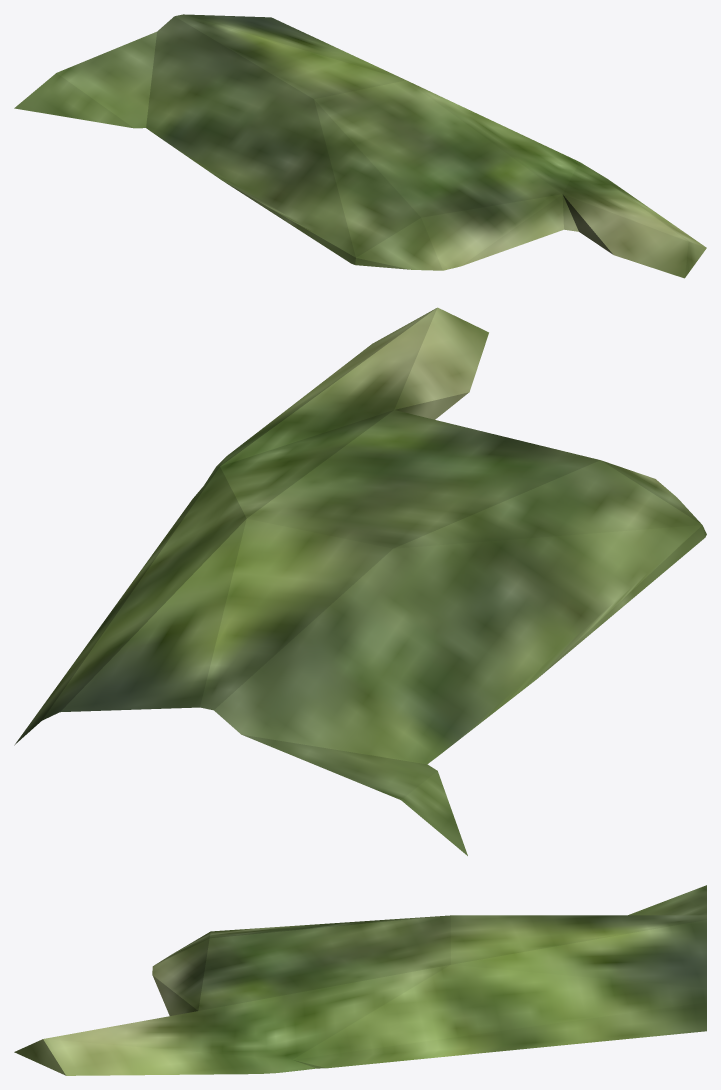
3 renders of one model, top to bottom at view 1: azimuth 30°, elevation 25°; view 2: azimuth 150°, elevation 25°; view 3: azimuth 270°, elevation 25°, orthographic. The views are drawn at different scales.
Bounding box in the file's own units: 8.22 × 1.23 × 12.92.
1 material, 1 textured.
